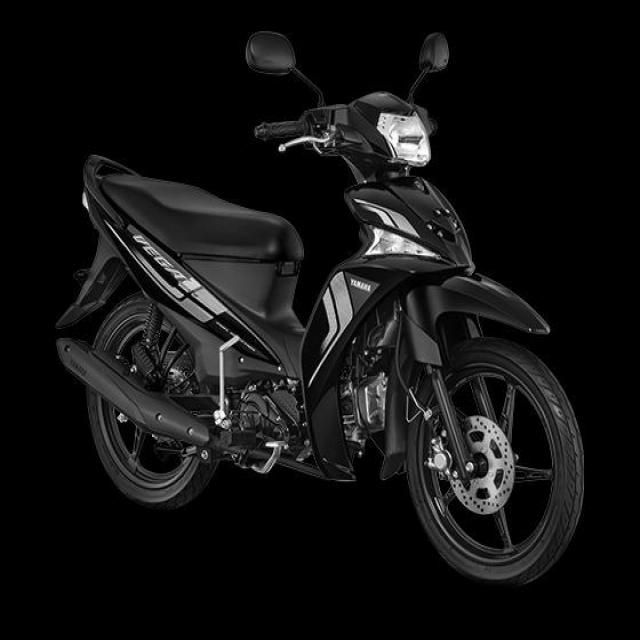Motorcycle: (56, 31, 584, 588)
